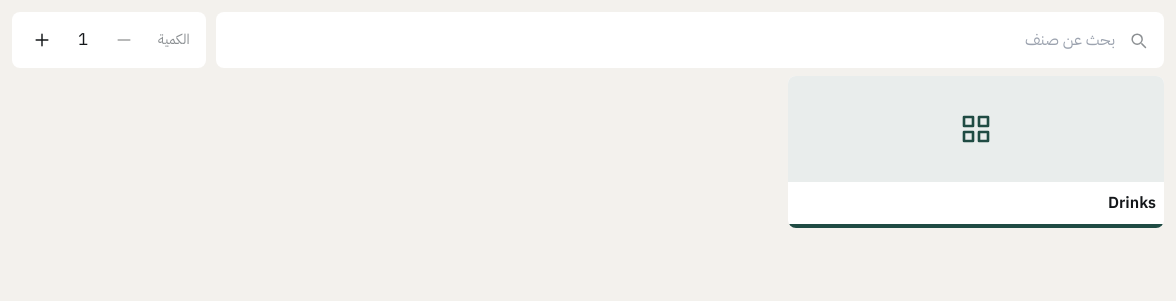
it: what a tile says about stock › says sold out and does not offer it, where the branch enforces its stock
Click the button "Drinks" at (976, 152), box [788, 76, 1164, 228]
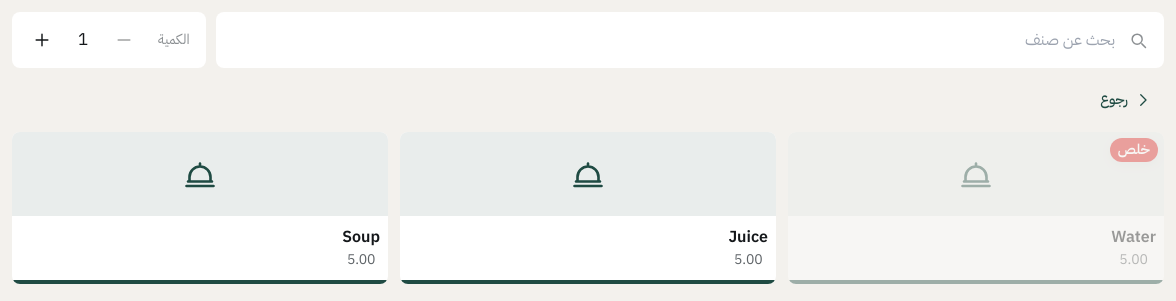
Expected: the text "خلص" is shown, [1110, 138, 1158, 162]
Expected: the button "خلص Water 5.00" is disabled, [788, 132, 1164, 284]
